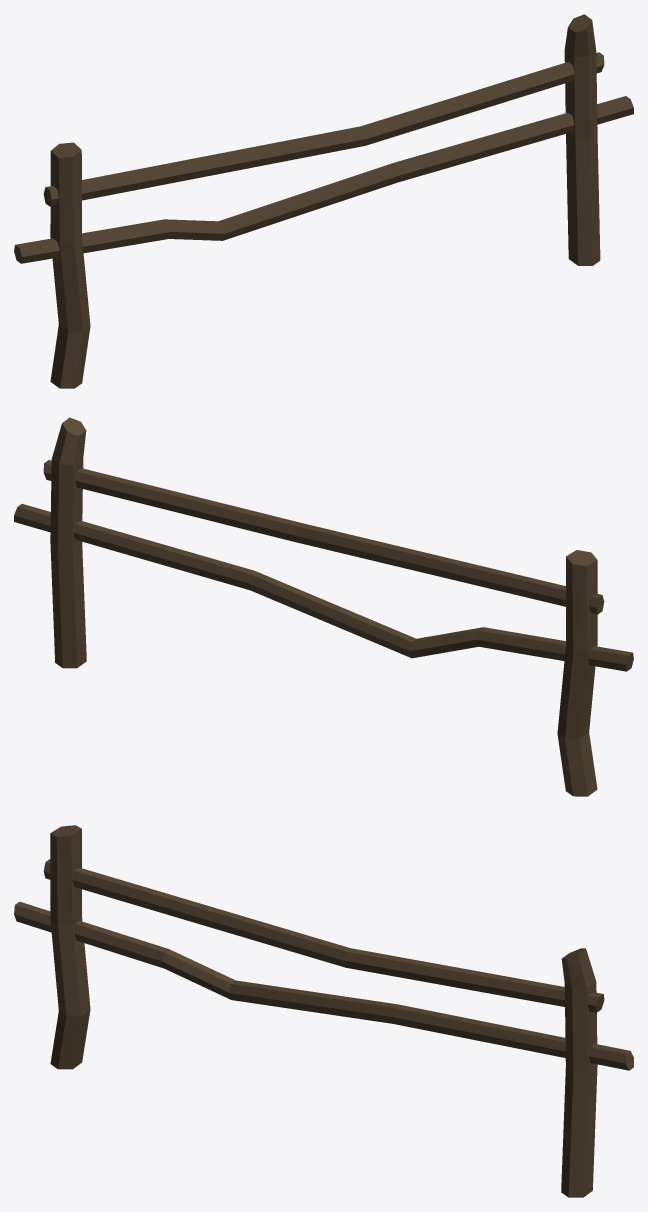
File: SM_Prop_Fence_05.glb
The picture shows the model from 3 angles, top to bottom: view 1: azimuth 30°, elevation 25°; view 2: azimuth 150°, elevation 25°; view 3: azimuth 330°, elevation 25°; orthographic projection.
Visible parts, largest first — view 1: SM_Prop_Fence_05_part00; view 2: SM_Prop_Fence_05_part00; view 3: SM_Prop_Fence_05_part00.
Part boxes in pixels (box(x1,y1,x2,y2)): SM_Prop_Fence_05_part00: box(14, 14, 633, 388); SM_Prop_Fence_05_part00: box(14, 417, 633, 796); SM_Prop_Fence_05_part00: box(14, 825, 633, 1197).
Bounding box in the file's own units: 2.98 × 1.12 × 0.1914.
1 material, 1 textured.
